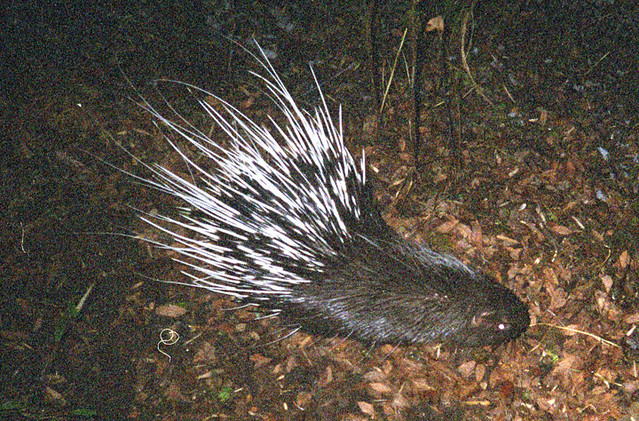porcupine: (105, 59, 543, 360)
